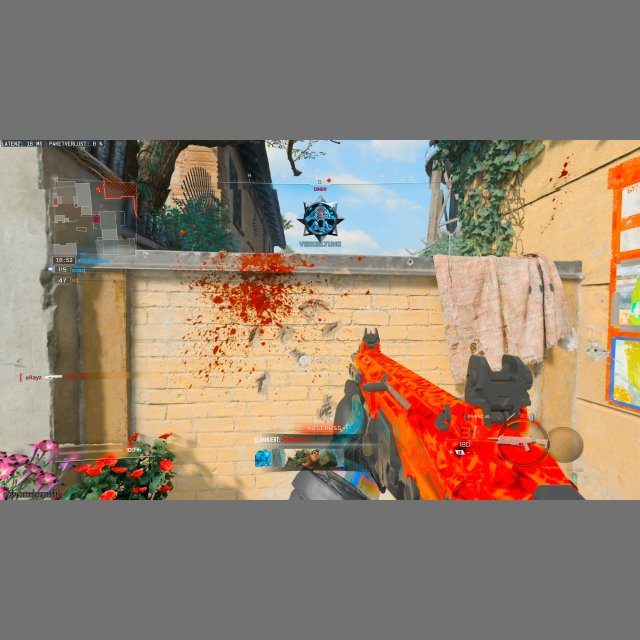player: (300, 199, 344, 241)
